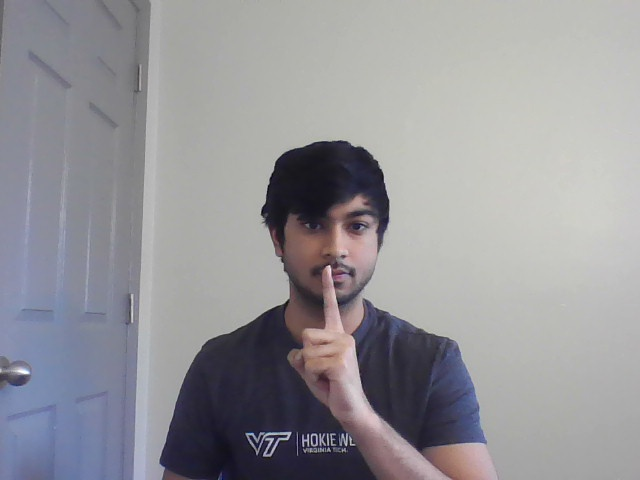one: (286, 260, 375, 406)
